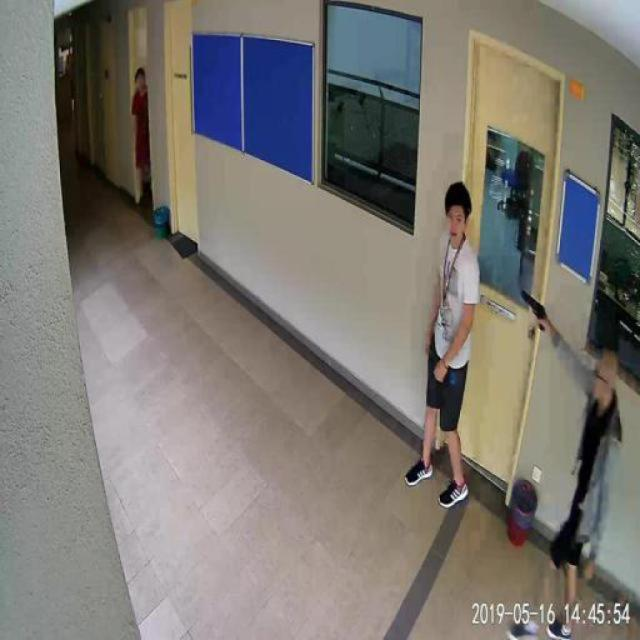pistol: (520, 285, 546, 331)
